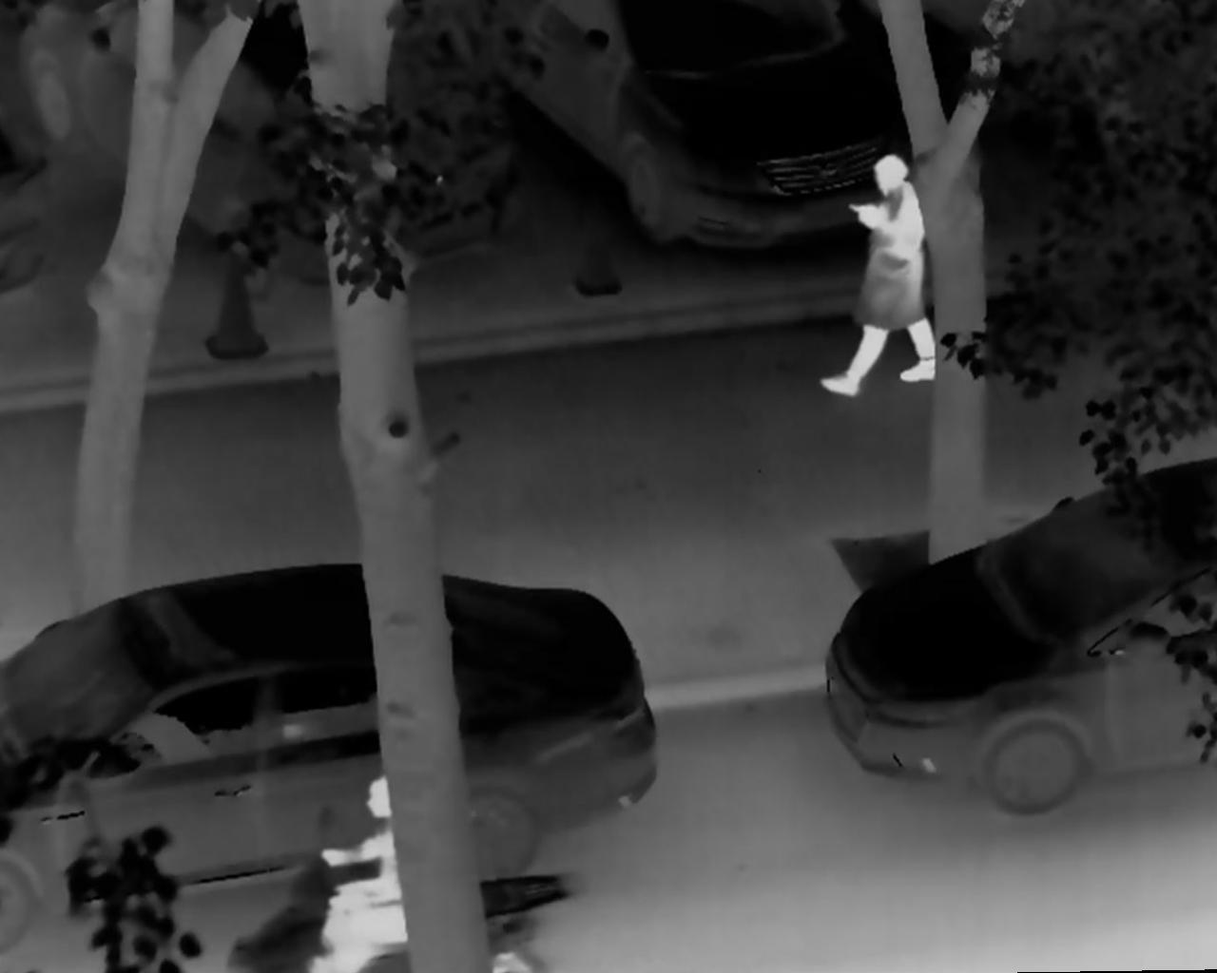person: (815, 150, 944, 401), (309, 772, 423, 973)
